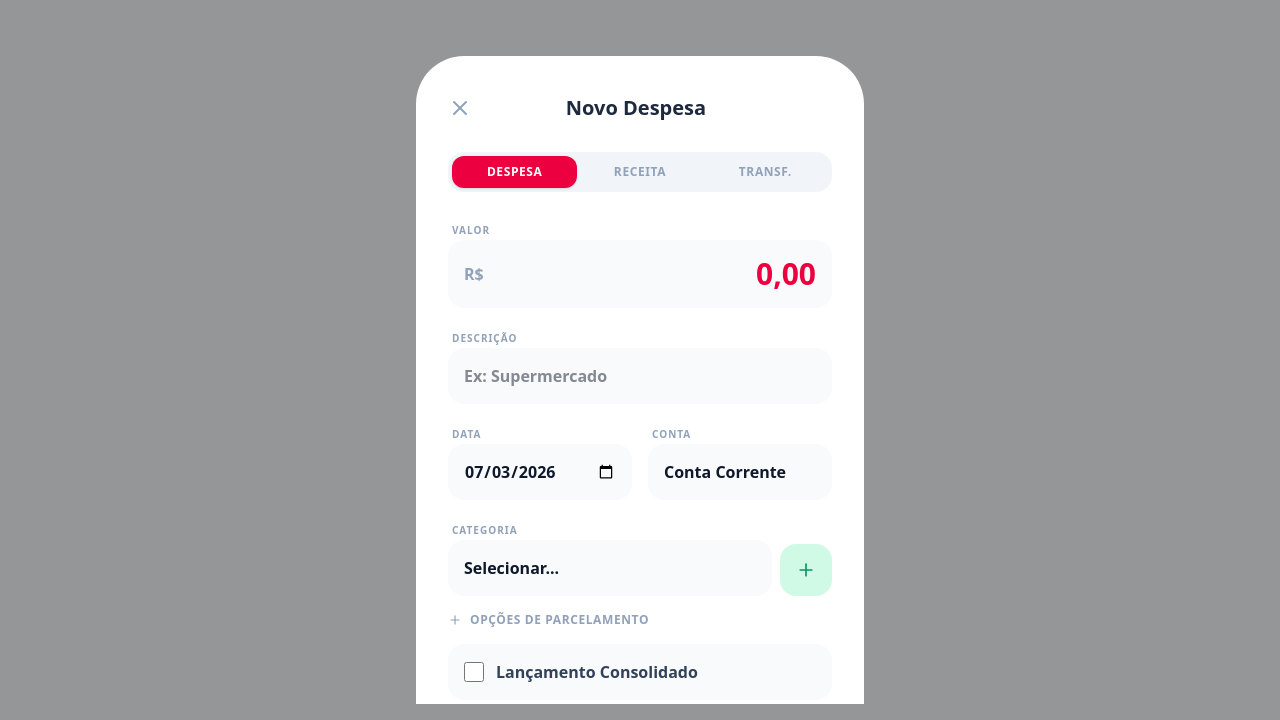
Test: TransactionModal - Installment Total Calculation › calculates total value correctly for multiple installments
Replace the text in the field labelled "Valor" with "15000": (640, 274) [448, 240, 832, 308]
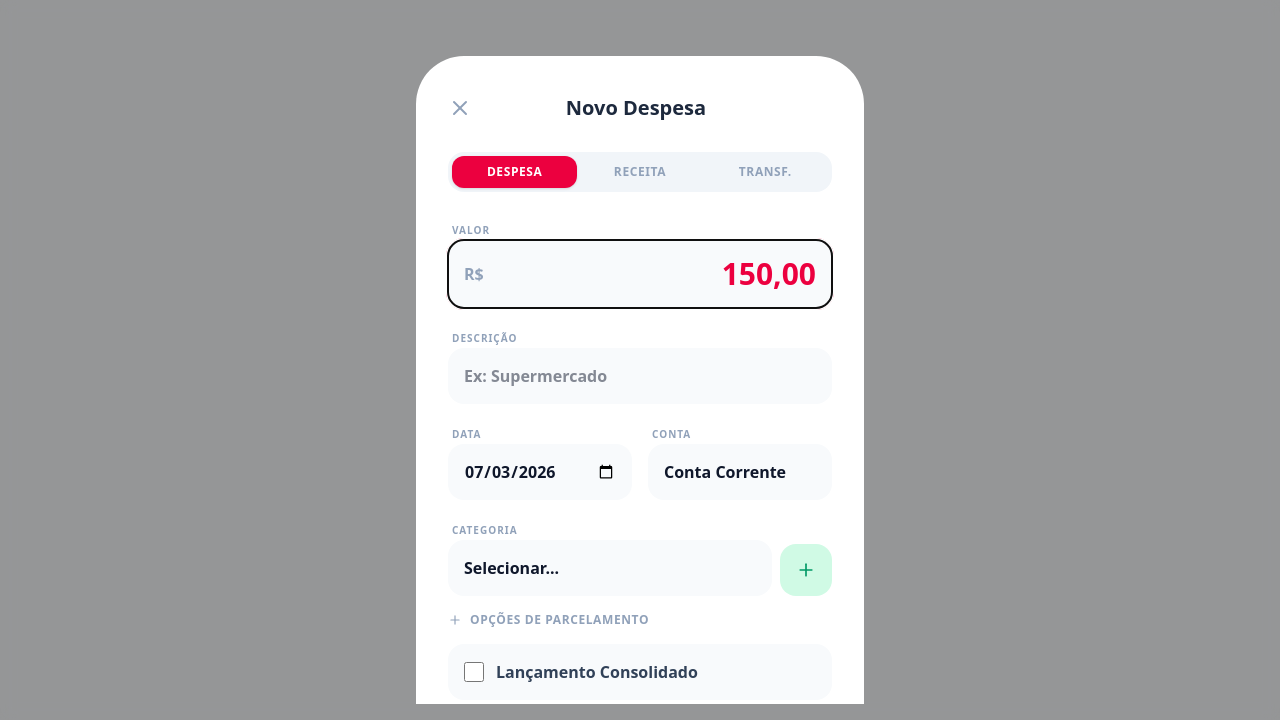
Click the button "Opções de Parcelamento": click(548, 620) [448, 612, 649, 628]
(page scrolled)
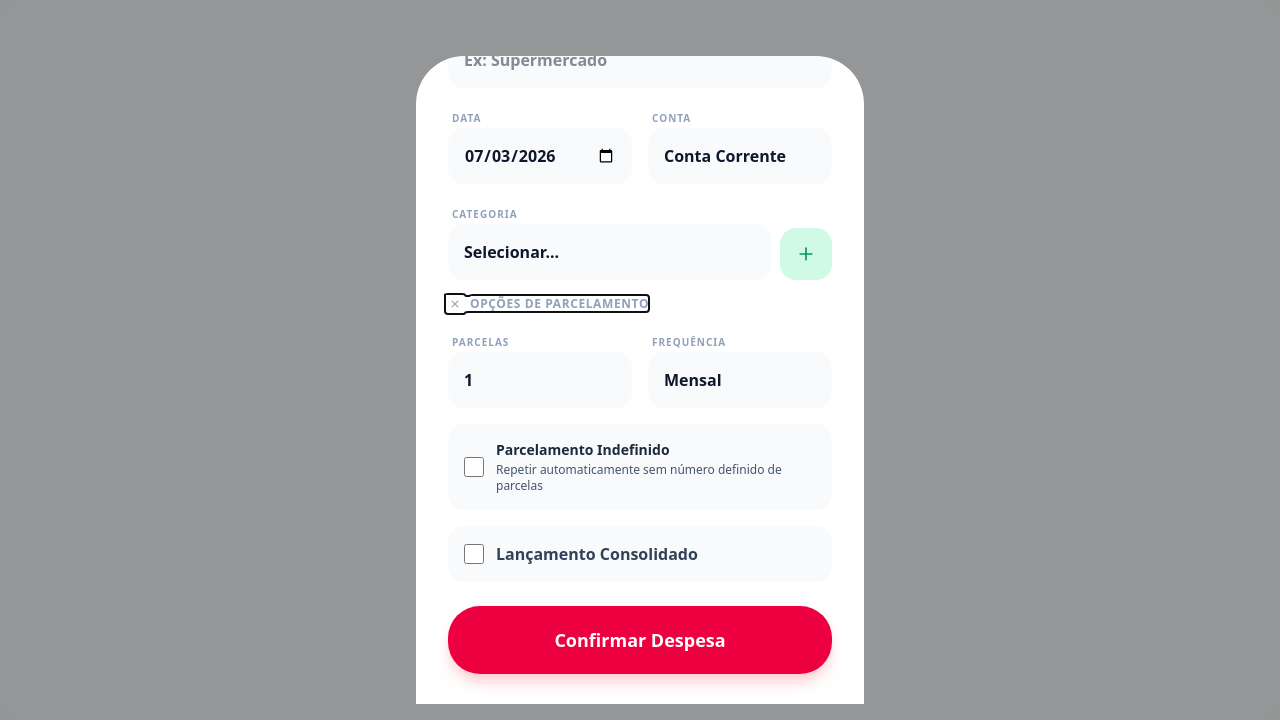
Replace the text in the number field labelled "Parcelas" with "6": (540, 380) [448, 352, 632, 408]
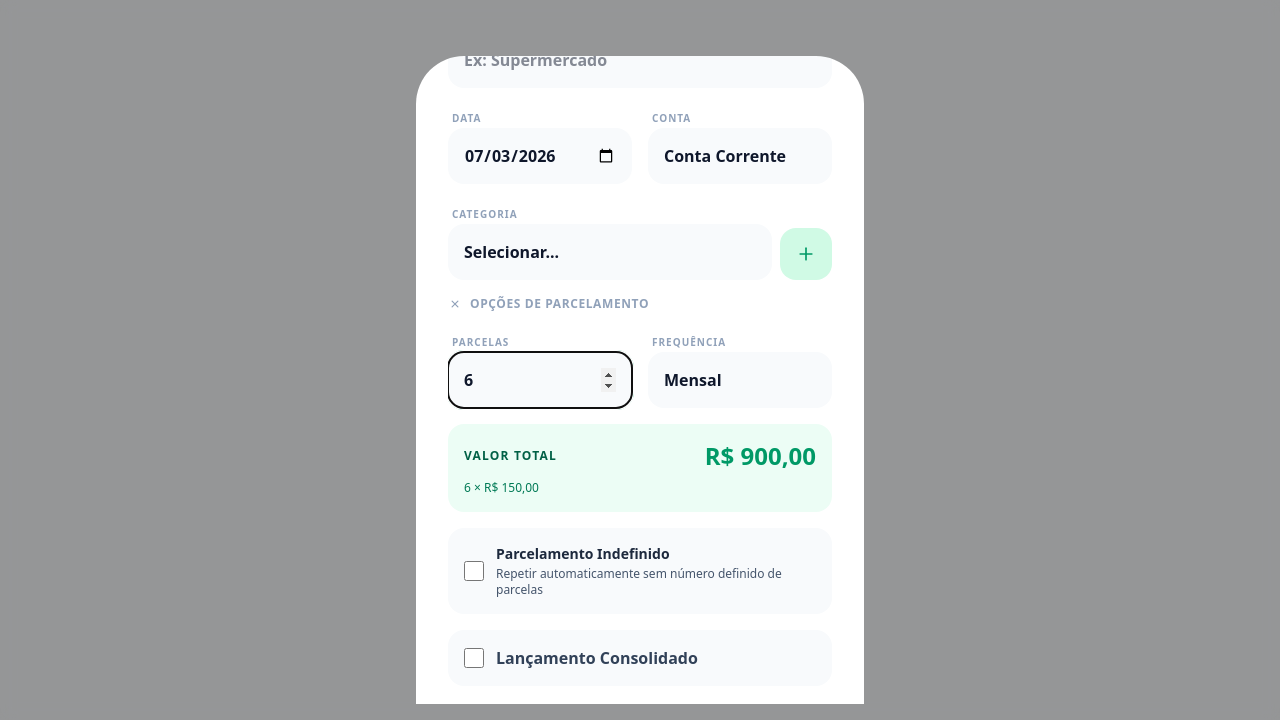
Check: the text "Valor Total" is shown, box [464, 448, 557, 464]
Check: the text "R$ 900,00" is shown, box [705, 440, 816, 472]
Check: the text "6 × R$ 150,00" is shown, box [464, 479, 539, 496]
